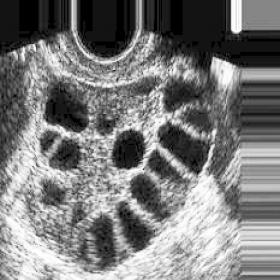PCOS: (163, 123, 203, 178), (130, 174, 168, 230), (148, 150, 186, 202), (115, 197, 148, 249), (52, 87, 88, 127), (115, 123, 148, 166), (161, 80, 203, 108), (97, 213, 119, 266), (186, 102, 216, 134), (59, 136, 86, 168), (37, 179, 67, 205), (97, 111, 121, 138), (42, 129, 57, 153)
